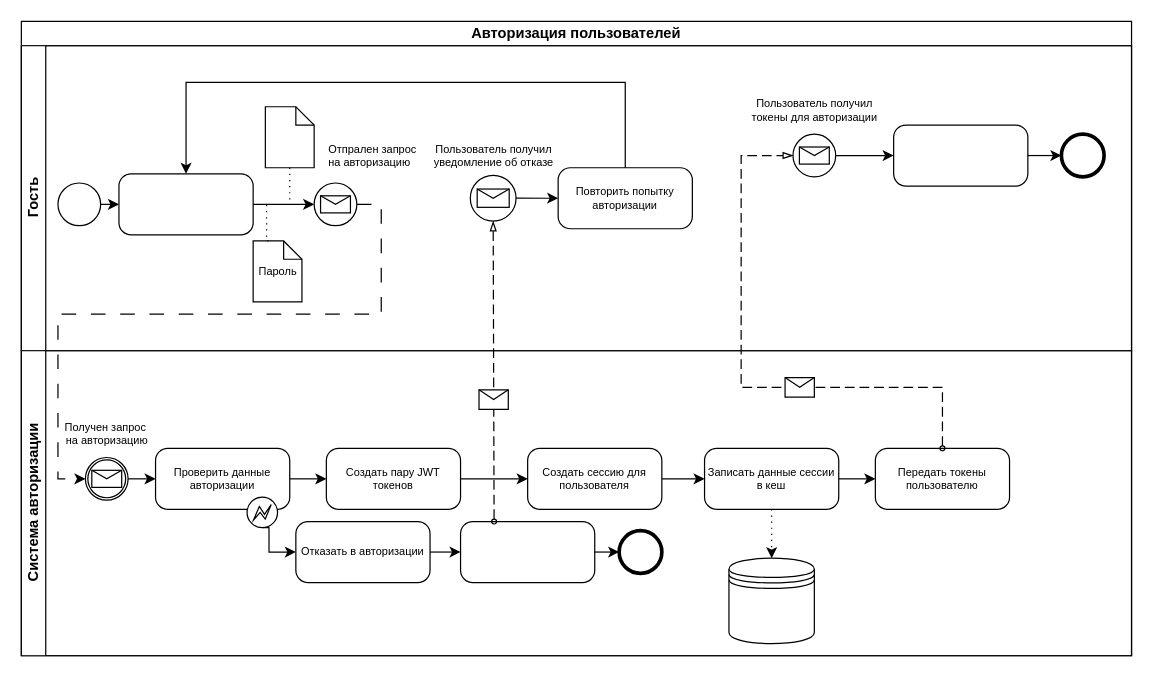
The diagram is 1153 pixels wide and 677 high, and some of its shapes have lost their labels. The centre of each missing label's shape, as x and y in pixels:
Запросить ресурс: the point at 960,155
Логин: the point at 289,137
Сформировать запрос на авторизацию: the point at 185,204
Уведомить пользователя об отказе: the point at 527,551
Хранилище сессий: the point at 771,600
